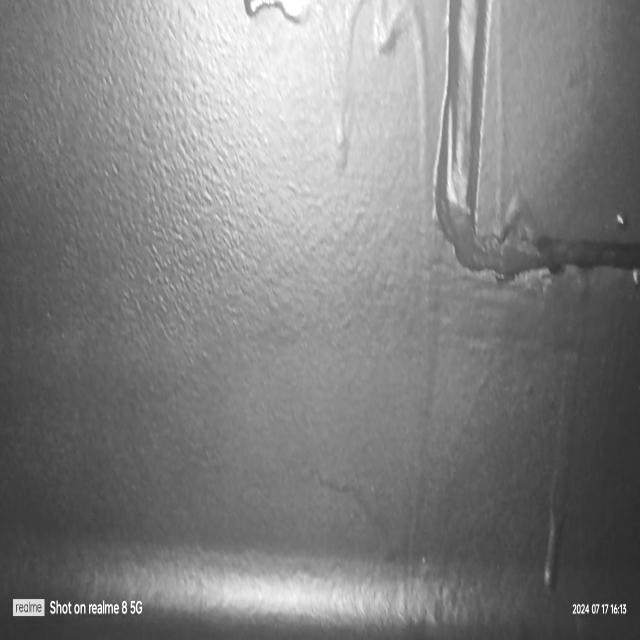paint drips: (230, 0, 435, 259), (528, 260, 592, 606)
